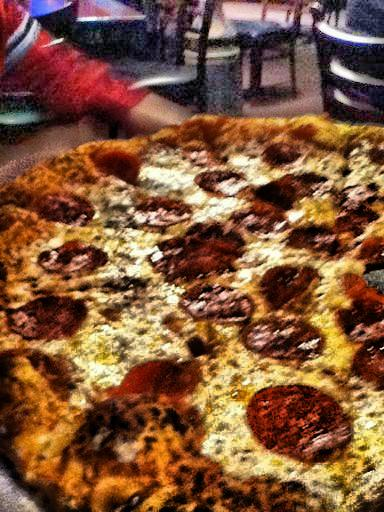pizza: (4, 136, 384, 508)
